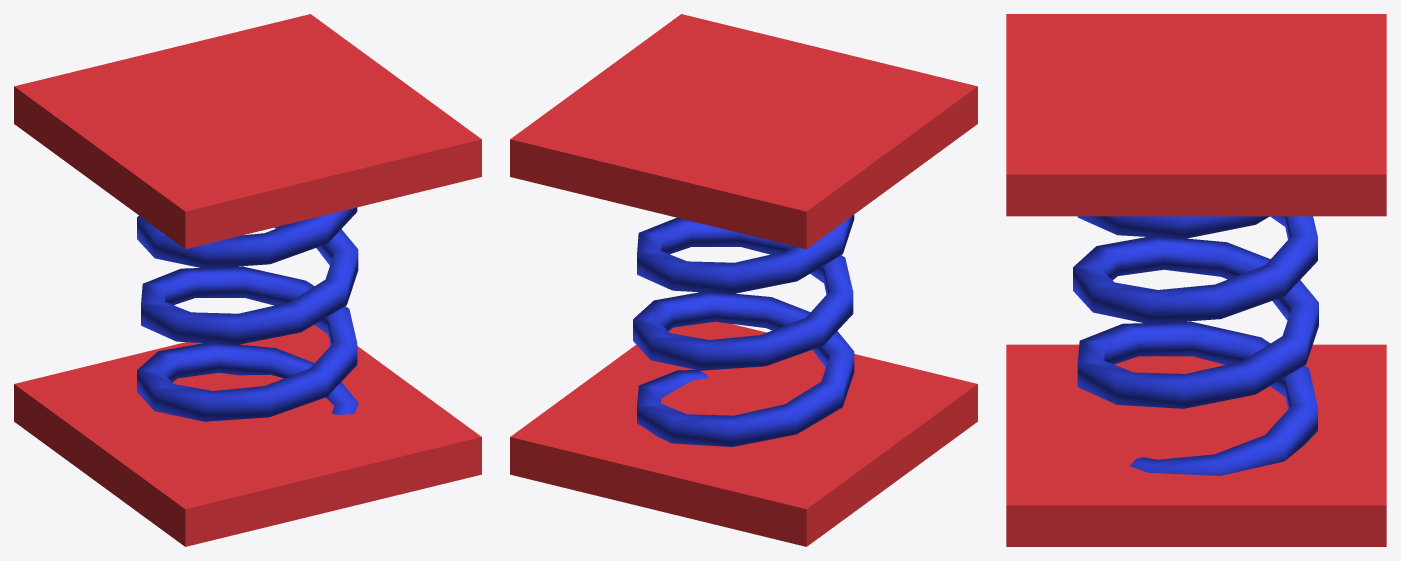
File: engel18.fbx
3 renders of one model, left to right at view 1: azimuth 30°, elevation 25°; view 2: azimuth 150°, elevation 25°; view 3: azimuth 270°, elevation 25°, orthographic. The views are drawn at different scales.
Parts seen in each view (by area): view 1: Cube.011, Cube.010, Circle; view 2: Cube.011, Cube.010, Circle; view 3: Cube.011, Cube.010, Circle.
Part boxes in pixels (left/top/right/bottom): Cube.011: left=14, top=14, right=481, bottom=249; Cube.010: left=14, top=325, right=481, bottom=546; Circle: left=137, top=207, right=358, bottom=421; Cube.011: left=510, top=14, right=977, bottom=249; Cube.010: left=510, top=322, right=977, bottom=546; Circle: left=633, top=215, right=854, bottom=446; Cube.011: left=1006, top=14, right=1386, bottom=216; Cube.010: left=1006, top=344, right=1386, bottom=546; Circle: left=1073, top=216, right=1318, bottom=475.
Bounding box in the file's own units: 200 × 216 × 200.
